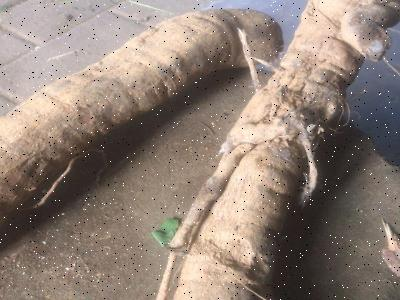Root: (0, 0, 400, 300), (169, 0, 400, 300), (0, 9, 282, 221)
